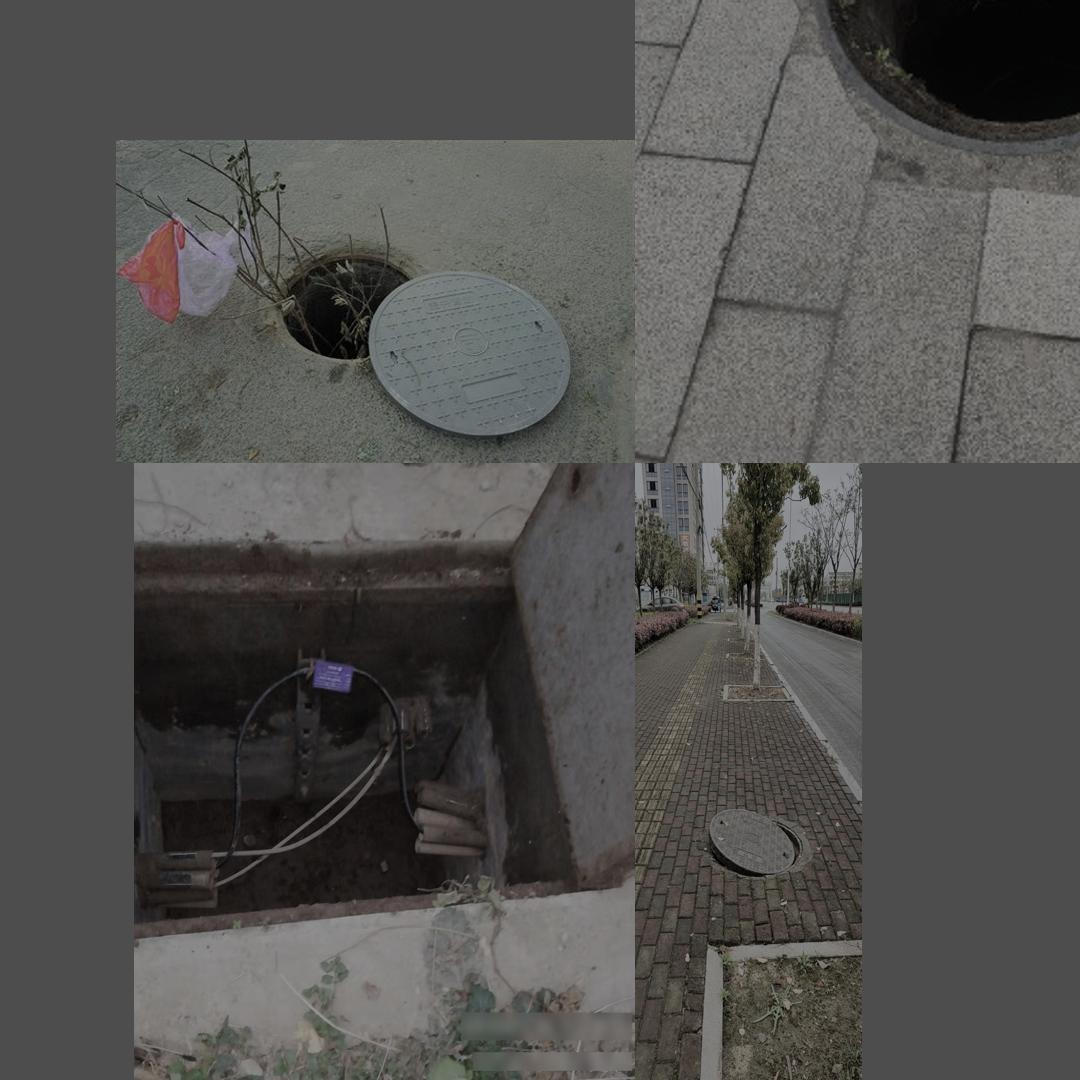uncovered: (134, 469, 630, 941), (243, 235, 575, 435), (807, 0, 1080, 164), (706, 809, 811, 879)
